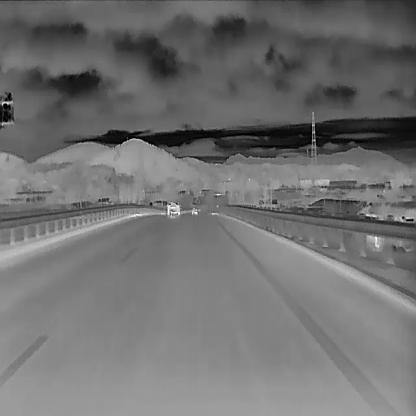car: (166, 201, 181, 215)
